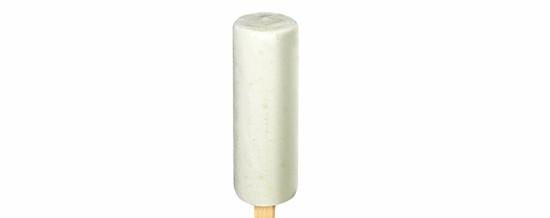Kulfi: (234, 13, 299, 207)
